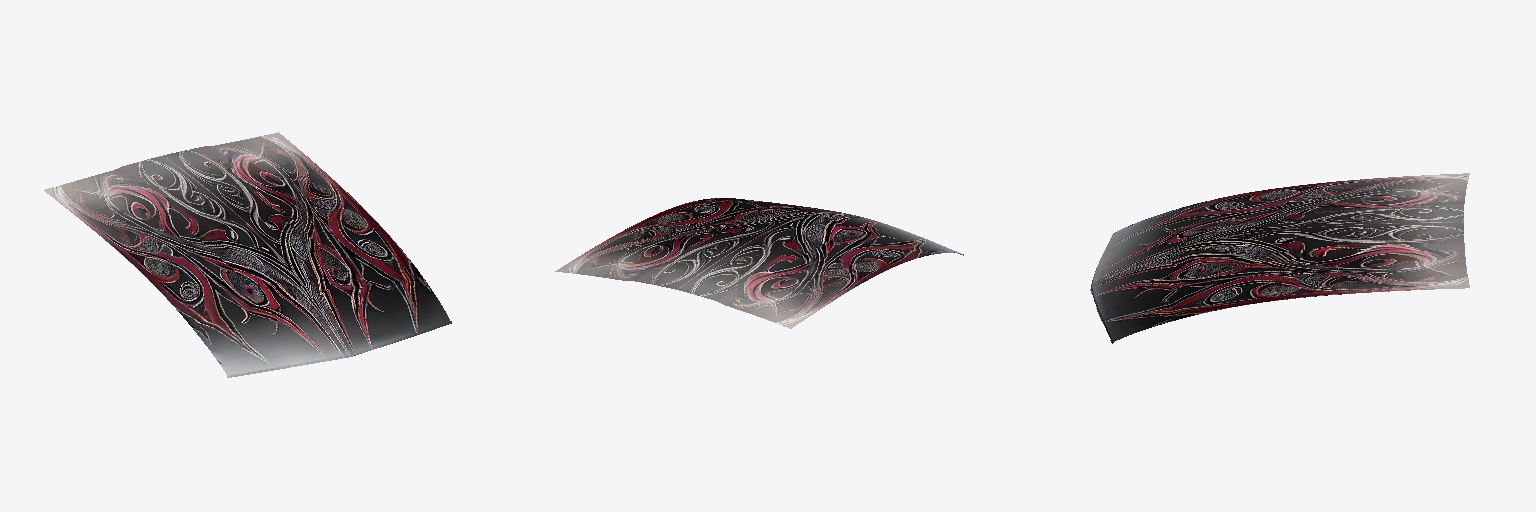
The picture shows the model from 3 angles: view 1: azimuth 30°, elevation 25°; view 2: azimuth 150°, elevation 25°; view 3: azimuth 270°, elevation 25°; orthographic projection.
Visible parts, largest first — view 1: Cofre; view 2: Cofre; view 3: Cofre.
Boxes of the visible parts, x1,y1,x2,y2 form: Cofre: [44, 132, 451, 377]; Cofre: [555, 198, 963, 328]; Cofre: [1090, 173, 1469, 343].
Bounding box in the file's own units: 3.16 × 0.8581 × 4.41.
Materials: 1 (1 with a texture image).